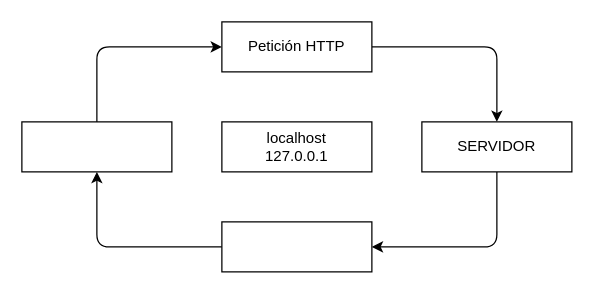
Image size: 594x294. Some labels were removed from this diagram. Each missing label, with the centre of its shape:
NAVEGADOR: point 96,146
Respuesta HTTP: point 296,246
